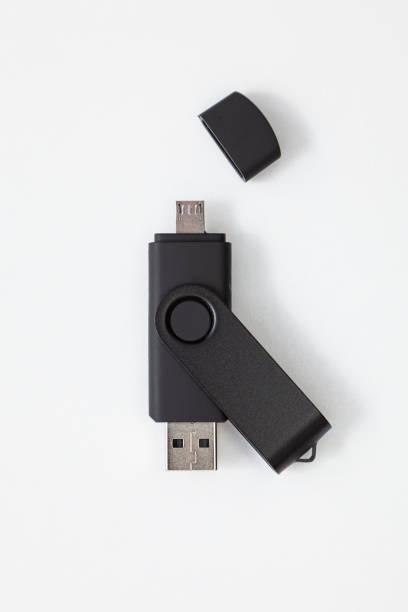USB Flash Drive: (148, 233, 332, 476)
